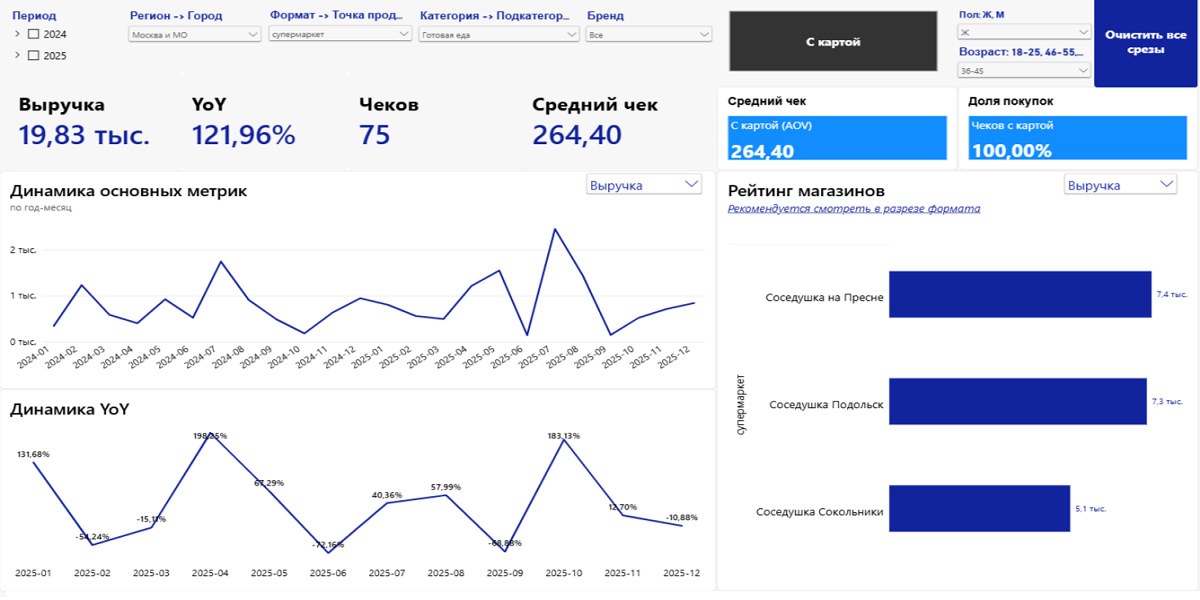

This screenshot's page, from the dashboard's own definition file:
{"tool":"powerbi","page":{"name":"Дашборд \"Розничные продажи\"","canvas":[1920,1080],"ordinal":1},"visuals":[{"type":"slicer","title":"Формат -> Точка продаж","fields":{"Values":["dim_stores.формат_магазина","dim_stores.наименование_магазина"]},"box":[422.2,22.7,238.6,111.7],"z":0},{"type":"slicer","title":"Категория -> Подкатегория","fields":{"Values":["dim_products.категория","dim_products.подкатегория"]},"box":[660.8,24.6,267,111.7],"z":1000},{"type":"slicer","title":"Регион -> Город","fields":{"Values":["dim_stores.регион","dim_stores.город"]},"box":[200.7,24.6,221.5,111.7],"z":2000},{"type":"slicer","title":"Бренд","fields":{"Values":["dim_products.бренд"]},"box":[927.8,24.6,212.1,111.7],"z":3000},{"type":"slicer","title":"Год -> Квартал -> Месяц","fields":{"Values":["dim_calendar.Год","dim_calendar.Номер квартала","dim_calendar.Год-Месяц"]},"box":[13.3,24.6,184,112],"z":4000},{"type":"slicer","fields":{"Values":["fact_sales.Тип покупки"]},"box":[1139.9,24.6,371.1,111.7],"z":5000},{"type":"slicer","fields":{"Values":["dim_customers.пол"]},"box":[1518.6,24.6,224,56],"z":6000},{"type":"slicer","fields":{"Values":["dim_customers.возрастная_группа"]},"box":[1518.6,89,223.4,73.8],"z":7000},{"type":"cardVisual","title":"Выручка","fields":{"Data":["fact_sales.Revenue"]},"box":[14,136,276,174],"z":9000},{"type":"cardVisual","fields":{"Data":["fact_sales.Check_cnt"]},"box":[556,136,276,174],"z":10000},{"type":"cardVisual","fields":{"Data":["fact_sales.Aov"]},"box":[832,136,266,174],"z":11000},{"type":"cardVisual","fields":{"Data":["fact_sales.YoY_pct"]},"box":[290,136,266,174],"z":12000},{"type":"lineChart","title":"Динамика основных метрик","fields":{"Category":["dim_calendar.Год-Месяц"],"Y":["fact_sales.Выручка"]},"box":[0,310,1140,390],"z":13000},{"type":"slicer","fields":{"Values":["Метрика.Метрика"]},"box":[928,310,194,98],"z":14000},{"type":"treemap","title":"Доля покупок","fields":{"Values":["fact_sales.Доля неидентифиц.","fact_sales.Доля идентифиц."]},"box":[1514,162,382,148],"z":15000},{"type":"treemap","title":"Средний чек","fields":{"Values":["fact_sales.Aov_card","fact_sales.Aov_nocard"]},"box":[1140,162,374,148],"z":16000},{"type":"lineChart","title":"Динамика YoY","fields":{"Category":["dim_calendar.Год-Месяц"],"Y":["fact_sales.YoY_pct"]},"box":[0,700,1140,362],"z":17000},{"type":"clusteredBarChart","title":"Рейтинг магазинов","fields":{"Category":["dim_stores.Формат - Магазин.формат_магазина","dim_stores.Формат - Магазин.наименование_магазина"],"Y":["fact_sales.Выручка"]},"box":[1140,310,756,752],"z":18000},{"type":"slicer","fields":{"Values":["Метрика рейтинга.Метрика рейтинга"]},"box":[1688,310,190,98],"z":19000},{"type":"actionButton","box":[1742,0,164.7,162.8],"z":19001}]}

Visuals, with their boxes on the page's 1920x1080 design canvas (x1, y1, x2, y2). These are canvas units, not pixel positions in the 1200x600 screenshot, which may show the page scaled, cropped or inside an application window:
"Формат -> Точка продаж" slicer: {"left": 422, "top": 23, "right": 661, "bottom": 134}
"Категория -> Подкатегория" slicer: {"left": 661, "top": 25, "right": 928, "bottom": 136}
"Регион -> Город" slicer: {"left": 201, "top": 25, "right": 422, "bottom": 136}
"Бренд" slicer: {"left": 928, "top": 25, "right": 1140, "bottom": 136}
"Год -> Квартал -> Месяц" slicer: {"left": 13, "top": 25, "right": 197, "bottom": 137}
slicer - fact_sales.Тип покупки: {"left": 1140, "top": 25, "right": 1511, "bottom": 136}
slicer - dim_customers.пол: {"left": 1519, "top": 25, "right": 1743, "bottom": 81}
slicer - dim_customers.возрастная_группа: {"left": 1519, "top": 89, "right": 1742, "bottom": 163}
"Выручка" cardVisual: {"left": 14, "top": 136, "right": 290, "bottom": 310}
cardVisual - fact_sales.Check_cnt: {"left": 556, "top": 136, "right": 832, "bottom": 310}
cardVisual - fact_sales.Aov: {"left": 832, "top": 136, "right": 1098, "bottom": 310}
cardVisual - fact_sales.YoY_pct: {"left": 290, "top": 136, "right": 556, "bottom": 310}
"Динамика основных метрик" lineChart: {"left": 0, "top": 310, "right": 1140, "bottom": 700}
slicer - Метрика.Метрика: {"left": 928, "top": 310, "right": 1122, "bottom": 408}
"Доля покупок" treemap: {"left": 1514, "top": 162, "right": 1896, "bottom": 310}
"Средний чек" treemap: {"left": 1140, "top": 162, "right": 1514, "bottom": 310}
"Динамика YoY" lineChart: {"left": 0, "top": 700, "right": 1140, "bottom": 1062}
"Рейтинг магазинов" clusteredBarChart: {"left": 1140, "top": 310, "right": 1896, "bottom": 1062}
slicer - Метрика рейтинга.Метрика рейтинга: {"left": 1688, "top": 310, "right": 1878, "bottom": 408}
actionButton: {"left": 1742, "top": 0, "right": 1907, "bottom": 163}
